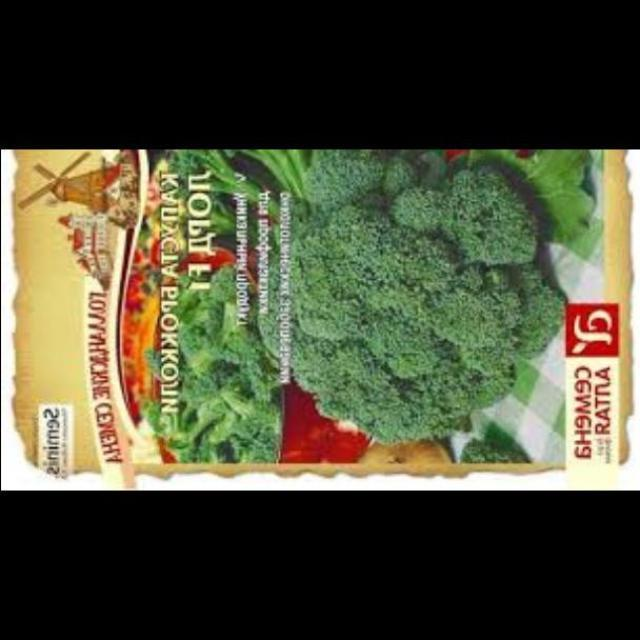Broccoli: (253, 150, 553, 425)
